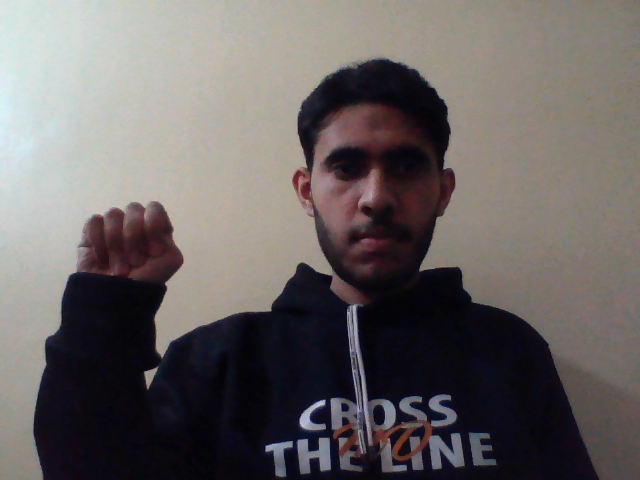M: (71, 193, 184, 307)
